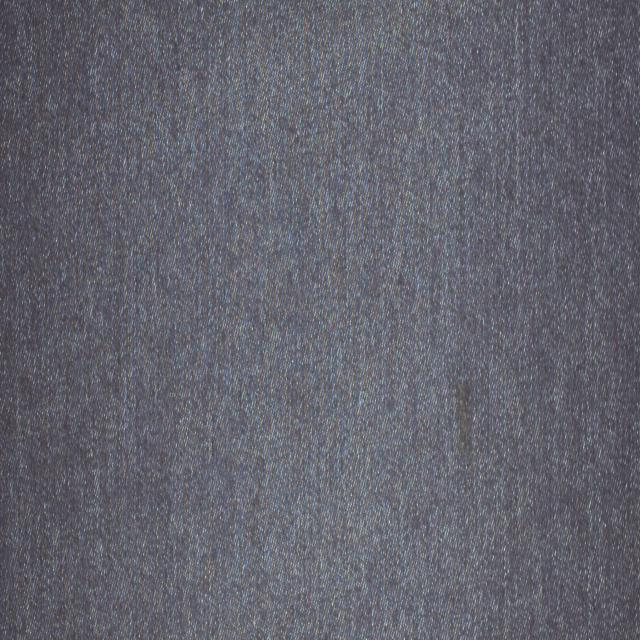Stain: (456, 382, 475, 468)
